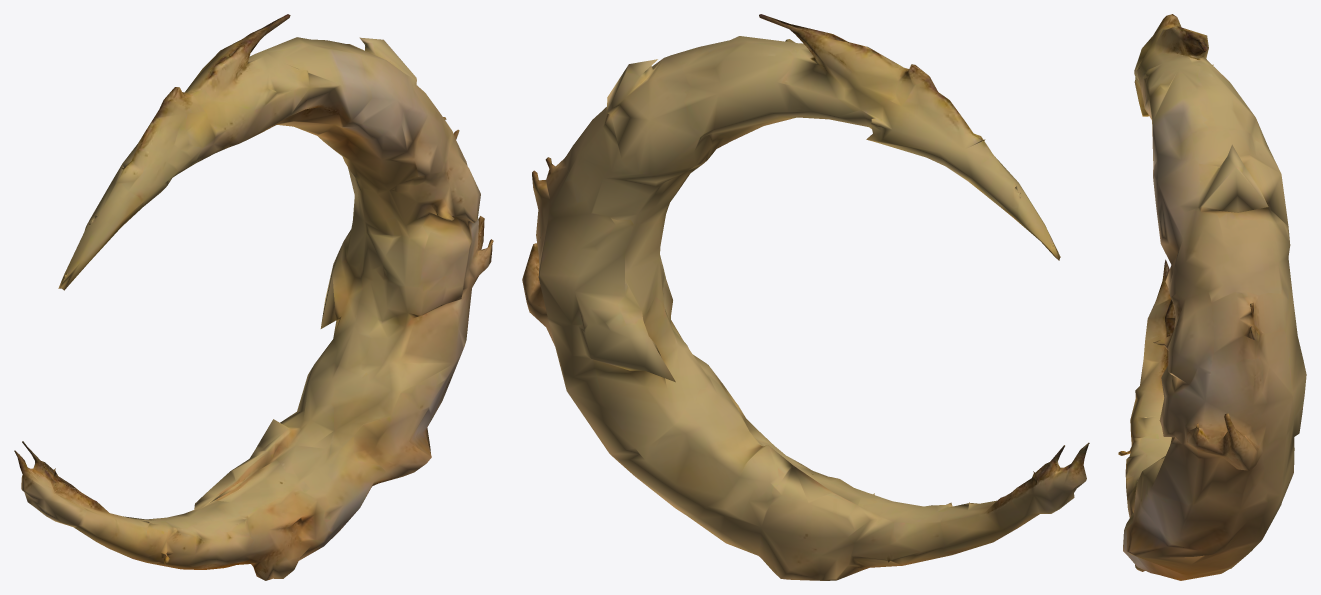
Rendered from sand_z.glb.
3 renders of one model, left to right at view 1: azimuth 30°, elevation 25°; view 2: azimuth 150°, elevation 25°; view 3: azimuth 270°, elevation 25°, orthographic. The views are drawn at different scales.
Parts seen in each view (by area): view 1: tripo_node_5379361e-095f-4ed3-a5c3-54492f023413; view 2: tripo_node_5379361e-095f-4ed3-a5c3-54492f023413; view 3: tripo_node_5379361e-095f-4ed3-a5c3-54492f023413.
Boxes of the visible parts, <box> form: tripo_node_5379361e-095f-4ed3-a5c3-54492f023413: <box>14,14,493,580</box>; tripo_node_5379361e-095f-4ed3-a5c3-54492f023413: <box>522,14,1089,580</box>; tripo_node_5379361e-095f-4ed3-a5c3-54492f023413: <box>1118,14,1306,580</box>.
Size of the model in its own units: 0.9718 by 0.9794 by 0.3087.
1 material, 1 textured.
